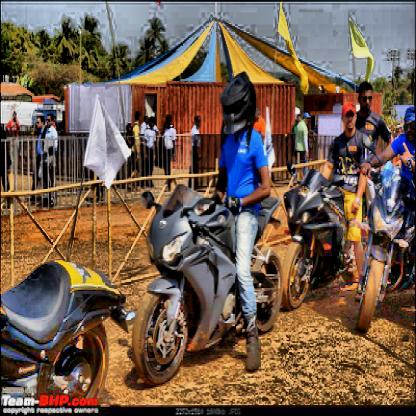not_wear: (400, 106, 415, 141), (358, 82, 372, 119), (343, 102, 359, 134)
wear: (220, 73, 258, 148)
